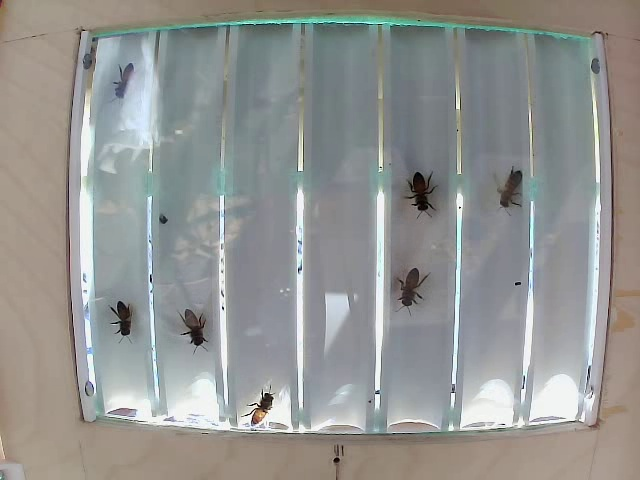bee: (380, 271, 455, 319), (168, 297, 227, 345), (412, 164, 457, 218), (252, 383, 290, 431), (120, 289, 158, 332), (504, 166, 534, 207)
